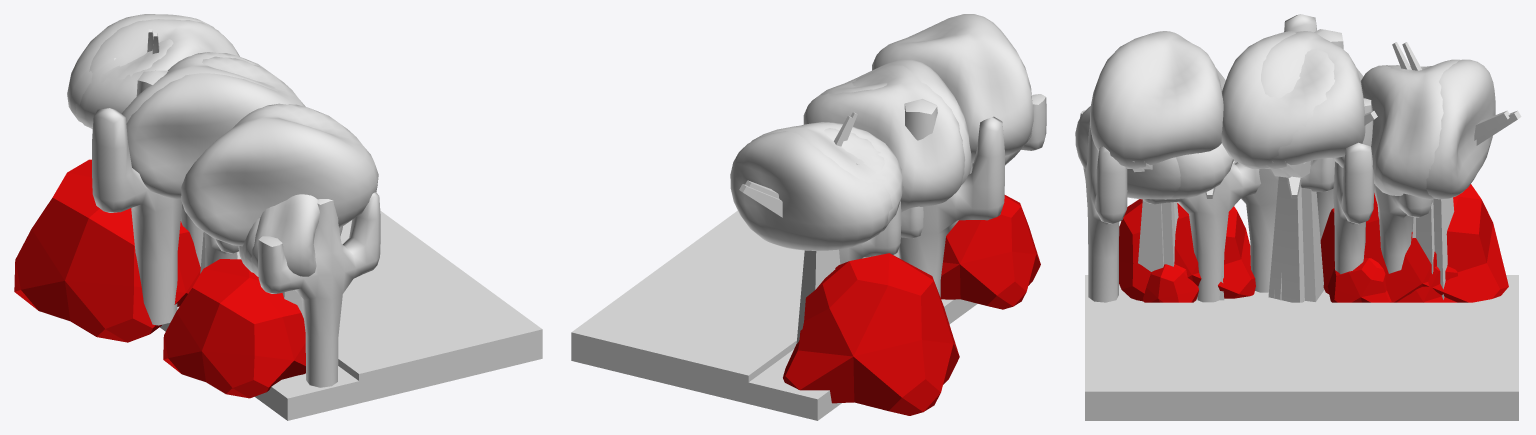
File: Biyom-1.fbx
3 renders of one model, left to right at view 1: azimuth 30°, elevation 25°; view 2: azimuth 150°, elevation 25°; view 3: azimuth 270°, elevation 25°, orthographic. The views are drawn at different scales.
Visible parts, largest first — view 1: 1.7, 1.2, 1.3, 1.1, 1.4, 1.6; view 2: 1.7, 1.2, 1.3, 1.1, 1.5, 1.6, 1.4; view 3: 1.2, 1.3, 1.7, 1.1, 1.5, 1.6, 1.4.
Part boxes in pixels (bbox=[...]): 1.7: bbox=[14, 70, 542, 420]; 1.2: bbox=[126, 29, 501, 420]; 1.3: bbox=[67, 14, 522, 373]; 1.1: bbox=[75, 19, 364, 367]; 1.4: bbox=[114, 33, 541, 336]; 1.6: bbox=[180, 204, 203, 266]; 1.7: bbox=[783, 94, 1046, 415]; 1.2: bbox=[571, 59, 1033, 420]; 1.3: bbox=[730, 14, 1033, 250]; 1.1: bbox=[571, 65, 1017, 420]; 1.5: bbox=[839, 201, 901, 264]; 1.6: bbox=[799, 206, 923, 342]; 1.4: bbox=[745, 112, 858, 267]; 1.2: bbox=[1075, 31, 1521, 391]; 1.3: bbox=[1085, 31, 1518, 420]; 1.7: bbox=[1080, 14, 1516, 420]; 1.1: bbox=[1085, 31, 1518, 391]; 1.5: bbox=[1085, 160, 1518, 420]; 1.6: bbox=[1142, 142, 1457, 302]; 1.4: bbox=[1085, 42, 1518, 420].
Size of the model in its own units: 589 by 462 by 666.
